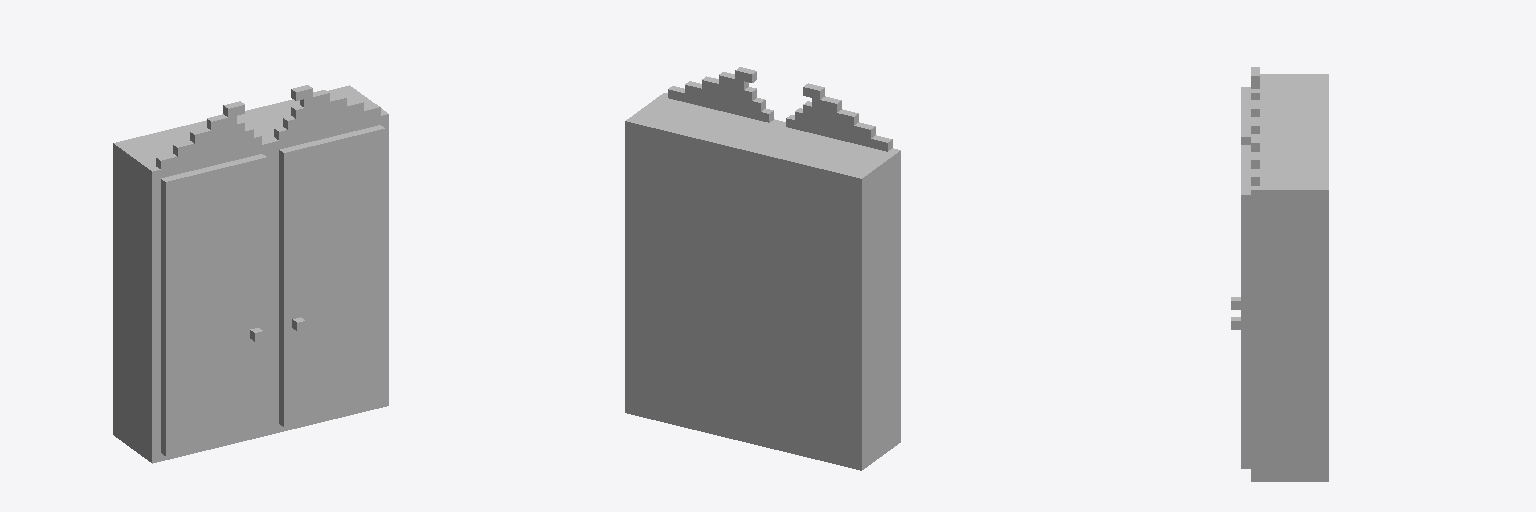
The model's file is Wardrobe.obj.
3 renders of one model, left to right at view 1: azimuth 30°, elevation 25°; view 2: azimuth 150°, elevation 25°; view 3: azimuth 270°, elevation 25°, orthographic.
Visible parts, largest first — view 1: object 1; view 2: object 1; view 3: object 1.
Part boxes in pixels (x1,y1,x2,y2): object 1: (113, 85, 388, 463); object 1: (625, 67, 900, 470); object 1: (1231, 67, 1328, 481).
Bounding box in the file's own units: 2.8 × 3.8 × 1.